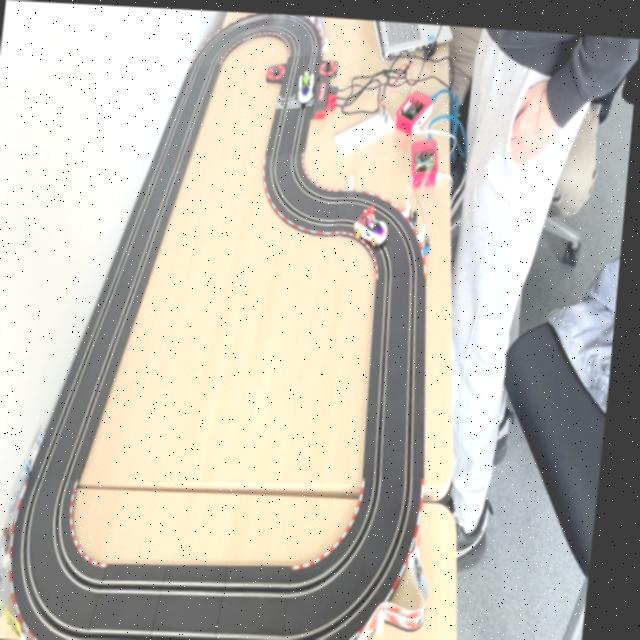mario: (355, 202, 395, 244)
yoshi: (298, 67, 318, 105)
